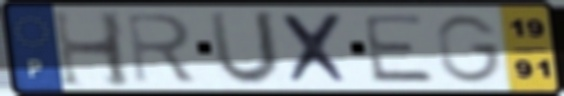E: (359, 12, 440, 85)
G: (432, 12, 505, 85)
H: (49, 7, 136, 89)
R: (122, 11, 200, 86)
U: (205, 8, 283, 89)
X: (277, 10, 357, 86)
